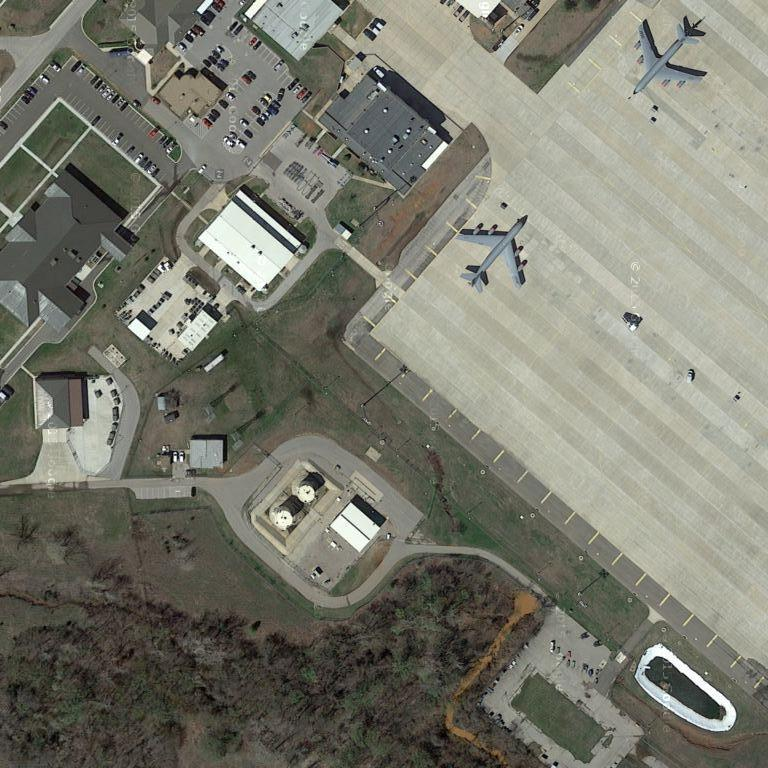KC-135: (455, 212, 530, 297), (629, 14, 705, 97)
